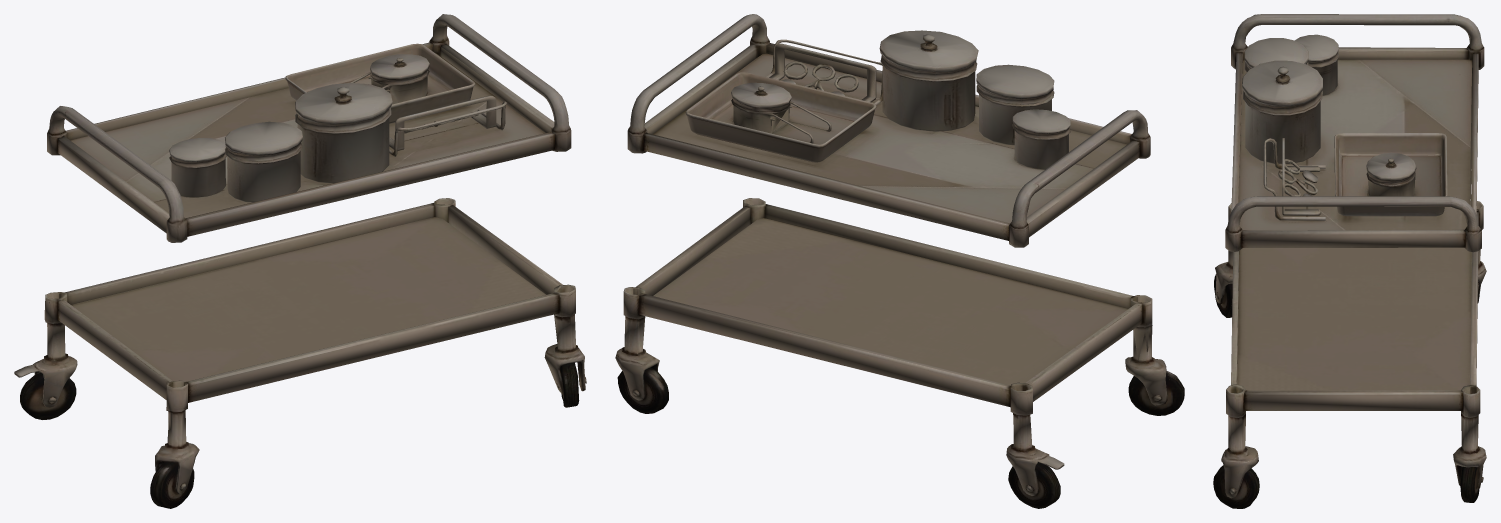
File: furniture-instrument-trolley.glb
The picture shows the model from 3 angles, left to right: view 1: azimuth 30°, elevation 25°; view 2: azimuth 150°, elevation 25°; view 3: azimuth 270°, elevation 25°; orthographic projection. The views are drawn at different scales.
Visible parts, largest first — view 1: tripo_node_8b06aba1-86c8-469c-b758-4e63189e7895; view 2: tripo_node_8b06aba1-86c8-469c-b758-4e63189e7895; view 3: tripo_node_8b06aba1-86c8-469c-b758-4e63189e7895.
Part boxes in pixels (bbox=[...]): tripo_node_8b06aba1-86c8-469c-b758-4e63189e7895: bbox=[14, 14, 586, 508]; tripo_node_8b06aba1-86c8-469c-b758-4e63189e7895: bbox=[615, 14, 1184, 508]; tripo_node_8b06aba1-86c8-469c-b758-4e63189e7895: bbox=[1213, 14, 1486, 508].
Size of the model in its own units: 1.2 by 0.9 by 0.65.
Materials: 1 (1 with a texture image).
